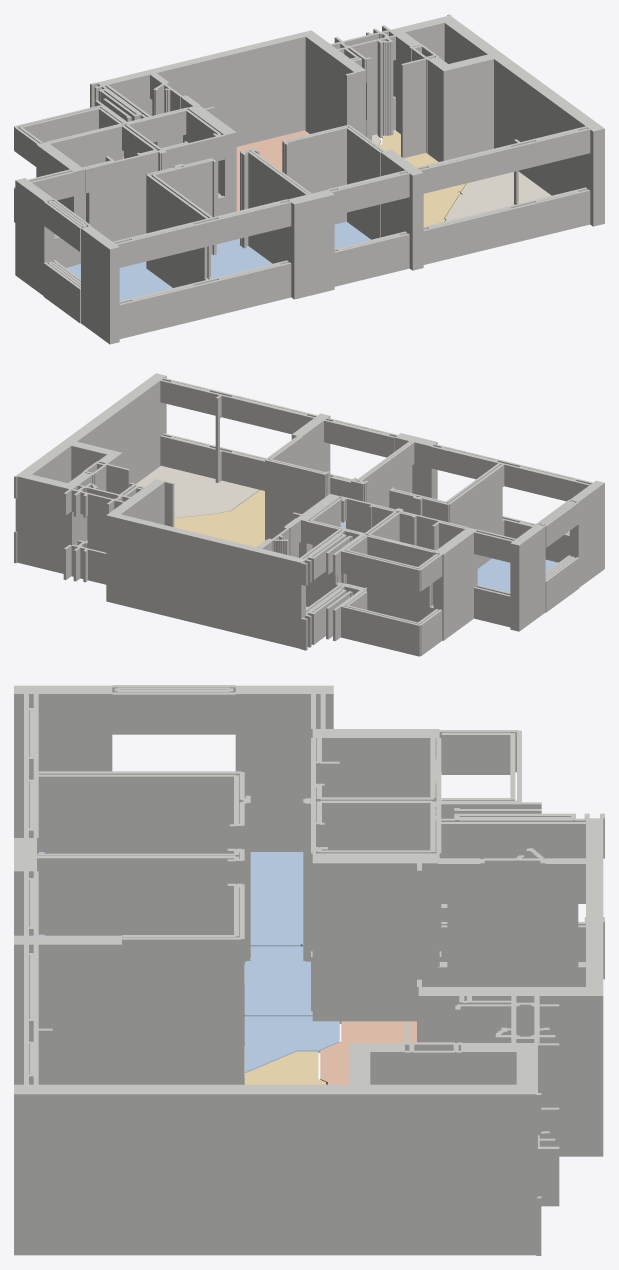
3 renders of one model, top to bottom at view 1: azimuth 30°, elevation 25°; view 2: azimuth 150°, elevation 25°; view 3: azimuth 270°, elevation 25°, orthographic. The views are drawn at different scales.
Parts seen in each view (by area): view 1: walls, room:other:5, room:living:8, room:bedroom:7, room:bedroom:6, room:kitchen:2, room:bedroom:9; view 2: walls, room:other:5, room:living:8, room:bedroom:6; view 3: walls, room:bedroom:6, room:bedroom:7, room:bedroom:9, room:kitchen:2, room:living:8.
Boxes of the visible parts, x1,y1,x2,y2 form: walls: [14, 14, 604, 344]; room:other:5: [444, 172, 551, 221]; room:living:8: [379, 130, 466, 226]; room:bedroom:7: [211, 238, 272, 278]; room:bedroom:6: [66, 261, 172, 300]; room:kitchen:2: [236, 130, 309, 211]; room:bedroom:9: [334, 221, 370, 248]; walls: [14, 373, 604, 656]; room:other:5: [136, 465, 259, 518]; room:living:8: [174, 490, 264, 547]; room:bedroom:6: [477, 558, 558, 592]; walls: [14, 685, 604, 1255]; room:bedroom:6: [39, 852, 303, 946]; room:bedroom:7: [39, 934, 312, 1016]; room:bedroom:9: [244, 1016, 339, 1072]; room:kitchen:2: [320, 1021, 416, 1084]; room:living:8: [244, 1051, 325, 1084].
Bounding box in the file's own units: 15.31 × 2.8 × 9.33.
